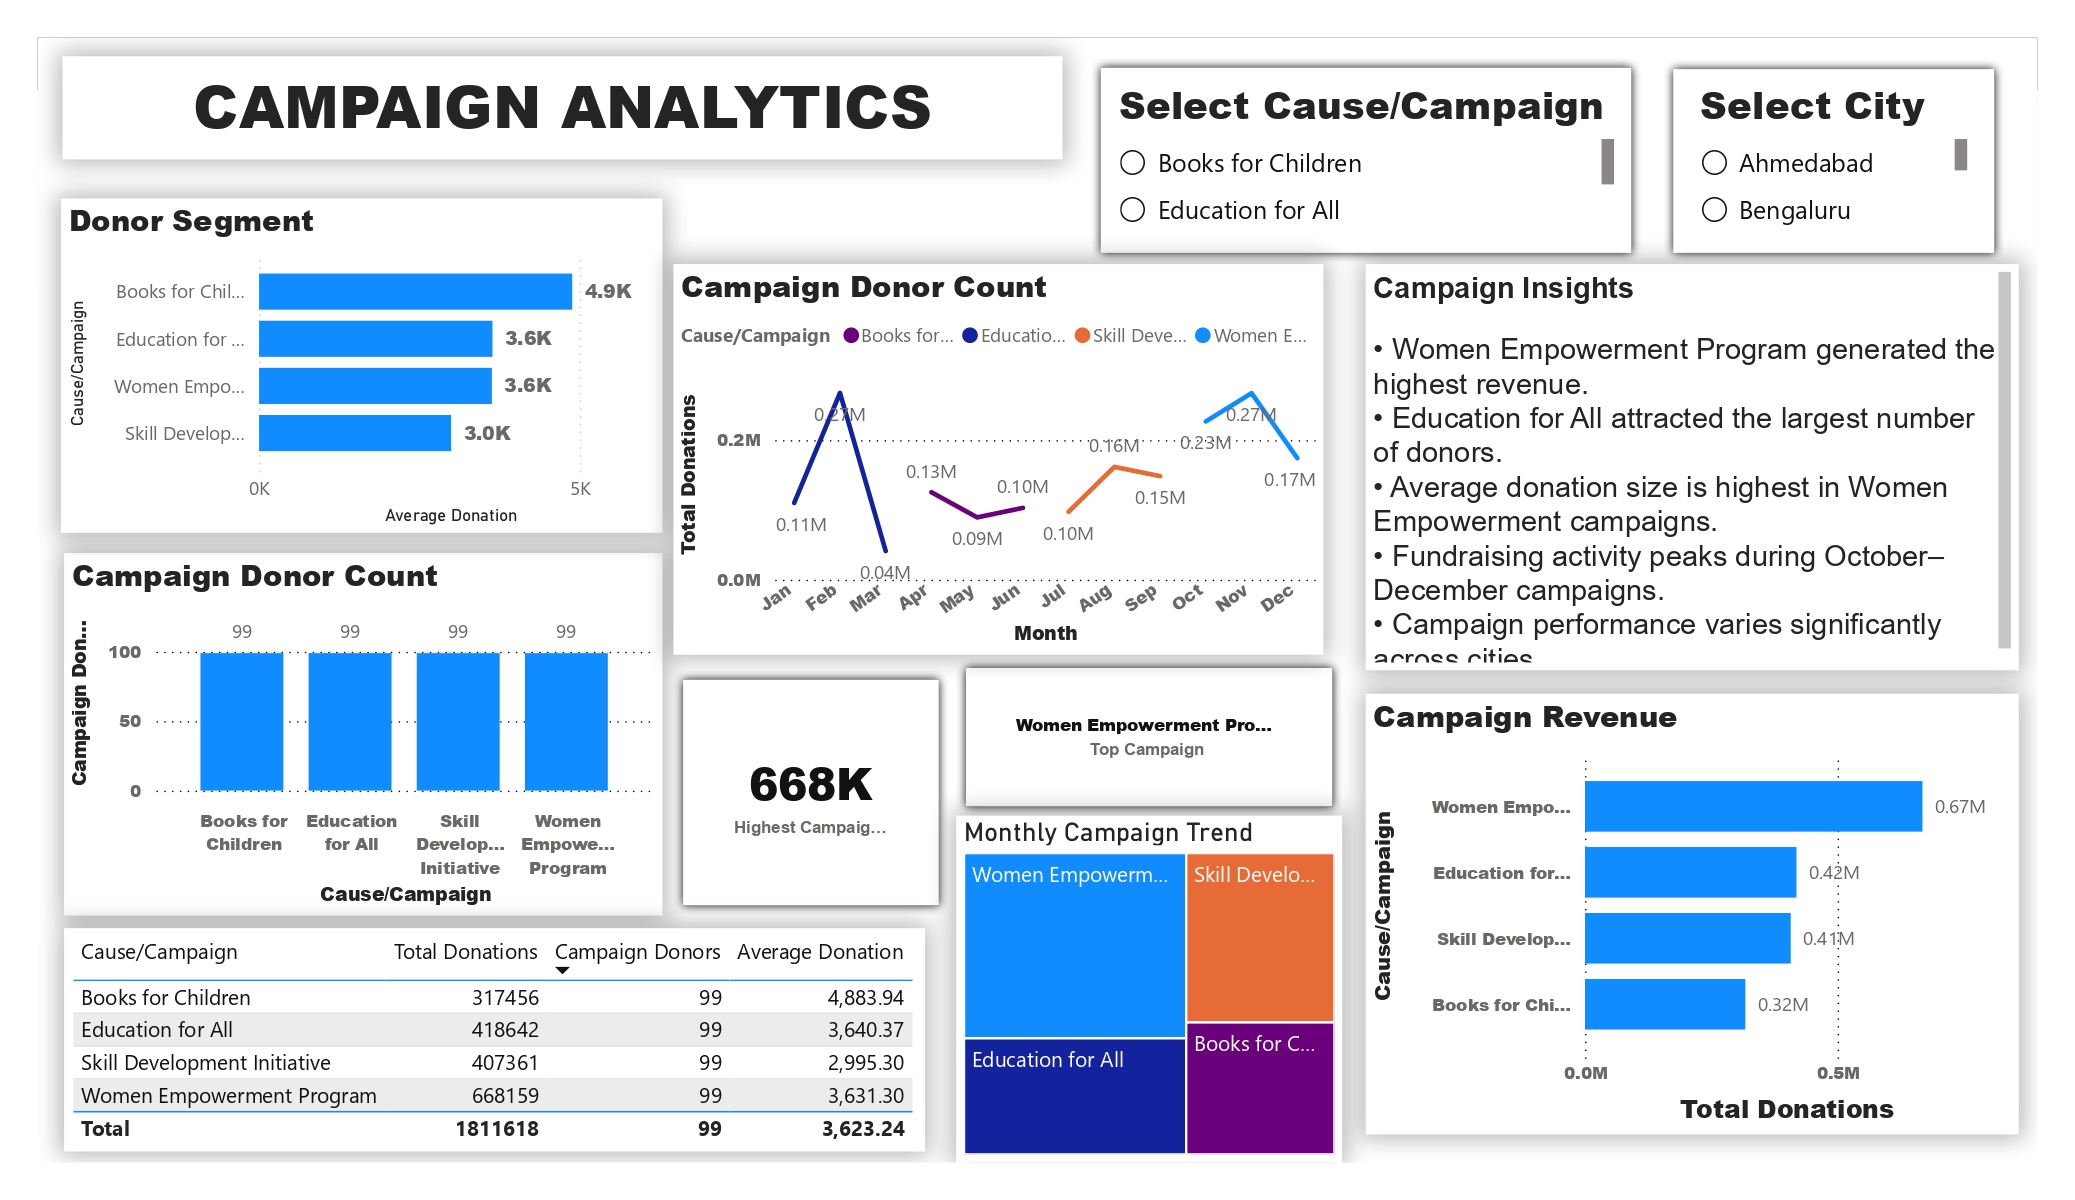

Layout of this report page (visuals, bound fields, positions):
{"tool":"powerbi","page":{"name":"Page 3","canvas":[1280,720],"ordinal":2},"visuals":[{"type":"textbox","box":[850,145,418.3,260],"z":0},{"type":"shape","box":[1041.4,14.3,217.1,130],"z":1000},{"type":"shape","box":[674.3,12.9,351.4,131.4],"z":2000},{"type":"textbox","box":[16,12,640,66],"z":3000},{"type":"listSlicer","title":"Select Cause/Campaign","fields":{"Values":["NayePankh Donations.Cause/Campaign"]},"box":[687.1,25.7,327.1,102.9],"z":4000},{"type":"listSlicer","title":"Select City","fields":{"Values":["NayePankh Donations.City"]},"box":[1058.6,25.7,181.4,102.9],"z":5000},{"type":"columnChart","title":"Campaign Donor Count","fields":{"Category":["NayePankh Donations.Cause/Campaign"],"Y":["NayePankh Donations.Campaign Donors"]},"box":[16.7,330,383.3,231.7],"z":6000},{"type":"clusteredBarChart","title":"Campaign Revenue","fields":{"Category":["NayePankh Donations.Cause/Campaign"],"Y":["NayePankh Donations.Total Donations"]},"box":[850,420,418,282],"z":7000},{"type":"clusteredBarChart","title":"Donor Segment","fields":{"Y":["NayePankh Donations.Average Donation"],"Category":["NayePankh Donations.Cause/Campaign"]},"box":[15,103.3,385,213.3],"z":8000},{"type":"shape","box":[588.3,396.7,246.7,101.7],"z":9000},{"type":"cardVisual","fields":{"Data":["NayePankh Donations.Top Campaign"]},"box":[596.7,405,226.7,83.3],"z":10000},{"type":"shape","box":[406.7,405,176.7,156.7],"z":11000},{"type":"cardVisual","fields":{"Data":["Calendar.Highest Campaign Revenue"]},"box":[416.7,420,156.7,126.7],"z":12000},{"type":"treemap","title":"Monthly Campaign Trend","fields":{"Group":["NayePankh Donations.Cause/Campaign"],"Values":["NayePankh Donations.Total Donations"]},"box":[588.3,498.3,246.7,221.7],"z":13000},{"type":"lineChart","title":"Campaign Donor Count","fields":{"Category":["Calendar.Month"],"Y":["NayePankh Donations.Total Donations"],"Series":["NayePankh Donations.Cause/Campaign"]},"box":[406.7,145,416.7,250],"z":14000},{"type":"tableEx","title":"Campaign Donor Count","fields":{"Values":["NayePankh Donations.Cause/Campaign","NayePankh Donations.Total Donations","NayePankh Donations.Campaign Donors","NayePankh Donations.Average Donation"]},"box":[16.7,570,551.7,143.3],"z":15000}]}

Visuals, with their boxes on the page's 1280x720 design canvas (x1, y1, x2, y2). These are canvas units, not pixel positions in the 2075x1200 screenshot, which may show the page scaled, cropped or inside an application window:
textbox: region(850, 145, 1268, 405)
shape: region(1041, 14, 1258, 144)
shape: region(674, 13, 1026, 144)
textbox: region(16, 12, 656, 78)
"Select Cause/Campaign" listSlicer: region(687, 26, 1014, 129)
"Select City" listSlicer: region(1059, 26, 1240, 129)
"Campaign Donor Count" columnChart: region(17, 330, 400, 562)
"Campaign Revenue" clusteredBarChart: region(850, 420, 1268, 702)
"Donor Segment" clusteredBarChart: region(15, 103, 400, 317)
shape: region(588, 397, 835, 498)
cardVisual - NayePankh Donations.Top Campaign: region(597, 405, 823, 488)
shape: region(407, 405, 583, 562)
cardVisual - Calendar.Highest Campaign Revenue: region(417, 420, 573, 547)
"Monthly Campaign Trend" treemap: region(588, 498, 835, 720)
"Campaign Donor Count" lineChart: region(407, 145, 823, 395)
"Campaign Donor Count" tableEx: region(17, 570, 568, 713)
